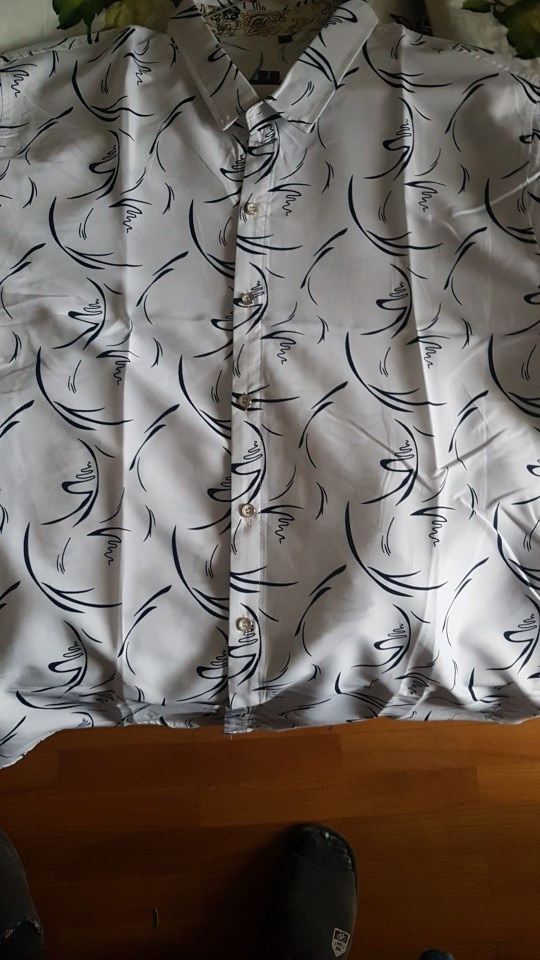shirts: (18, 19, 540, 705)
